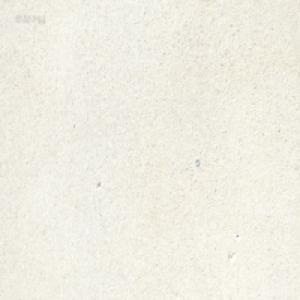Washer: (195, 158, 200, 167)
